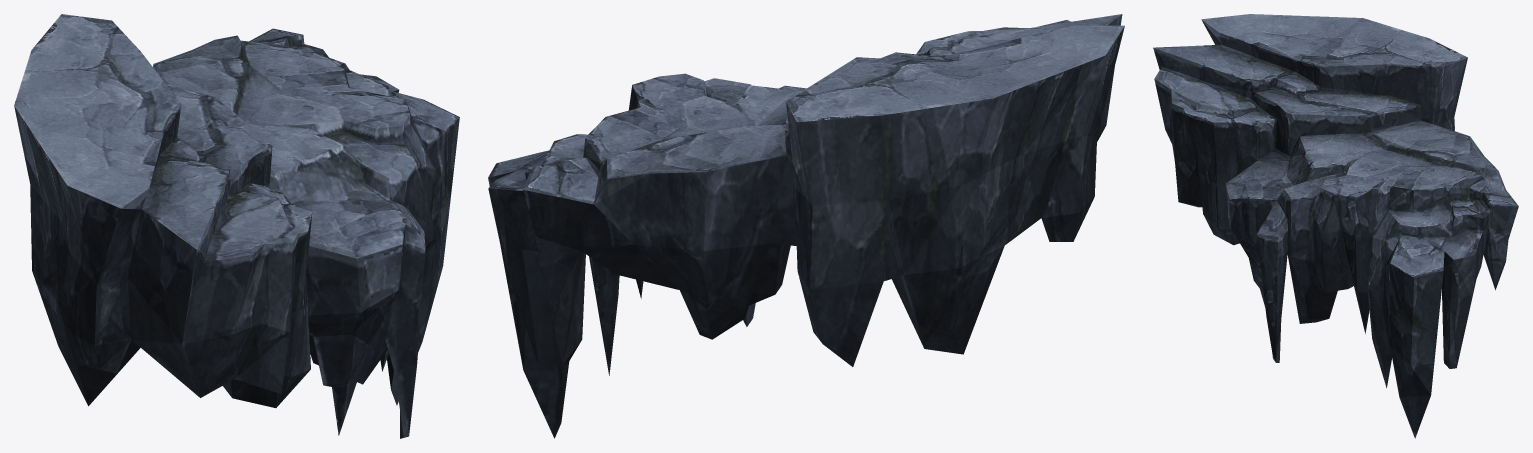
Rendered from cs_lobbynew02_shitou01_01.FBX.
3 renders of one model, left to right at view 1: azimuth 30°, elevation 25°; view 2: azimuth 150°, elevation 25°; view 3: azimuth 270°, elevation 25°, orthographic. The views are drawn at different scales.
Visible parts, largest first — view 1: cs_lobbynew02_shitou01_01; view 2: cs_lobbynew02_shitou01_01; view 3: cs_lobbynew02_shitou01_01.
Part boxes in pixels (<box>): cs_lobbynew02_shitou01_01: <box>14,14,459,438</box>; cs_lobbynew02_shitou01_01: <box>488,14,1124,438</box>; cs_lobbynew02_shitou01_01: <box>1153,14,1518,438</box>.
Bounding box in the file's own units: 419 × 337 × 390.
